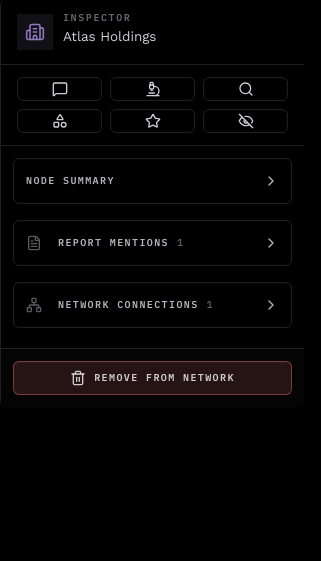
Test: NetworkGraphInspectorPanel › starts the node summary accordion collapsed and still allows it to close fully after opening
Expected: the text "Procurement intermediary" is not shown
Click the button "Node Summary" at point(70, 180), box [14,159,291,203]
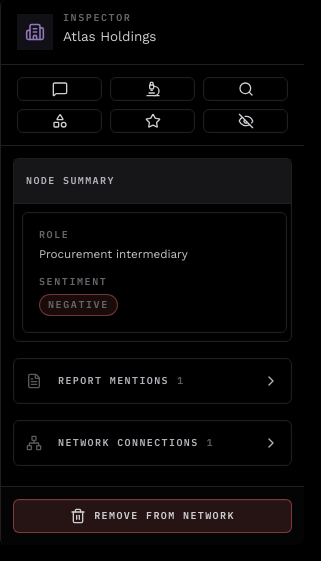
Now the text "Procurement intermediary" is shown, box [39,247,188,261]
Click the button "Node Summary" at point(70, 180), box [14,159,291,203]
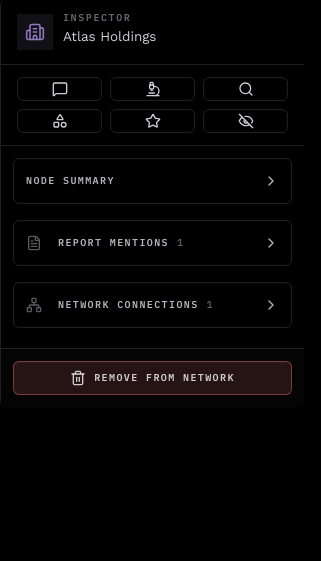
Now the text "Procurement intermediary" is gone
